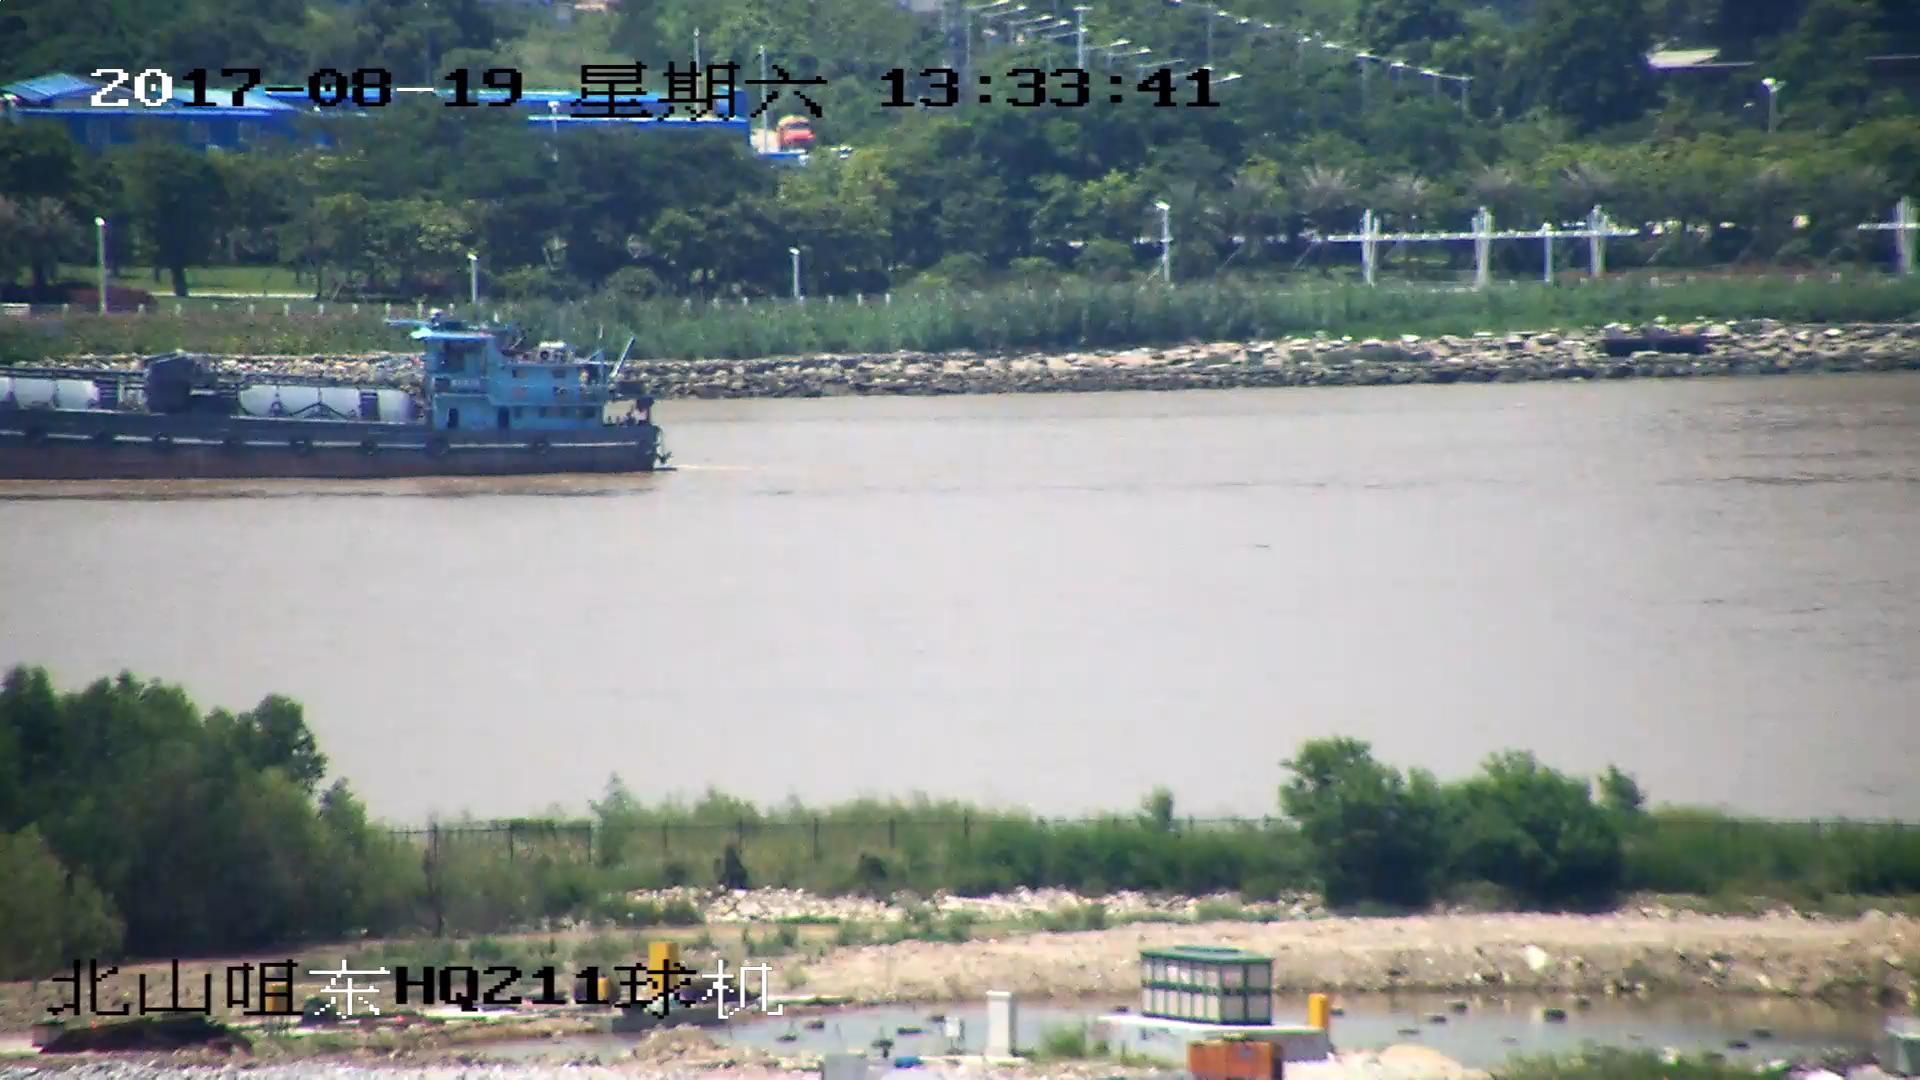bulk cargo carrier: (1, 315, 674, 473)
